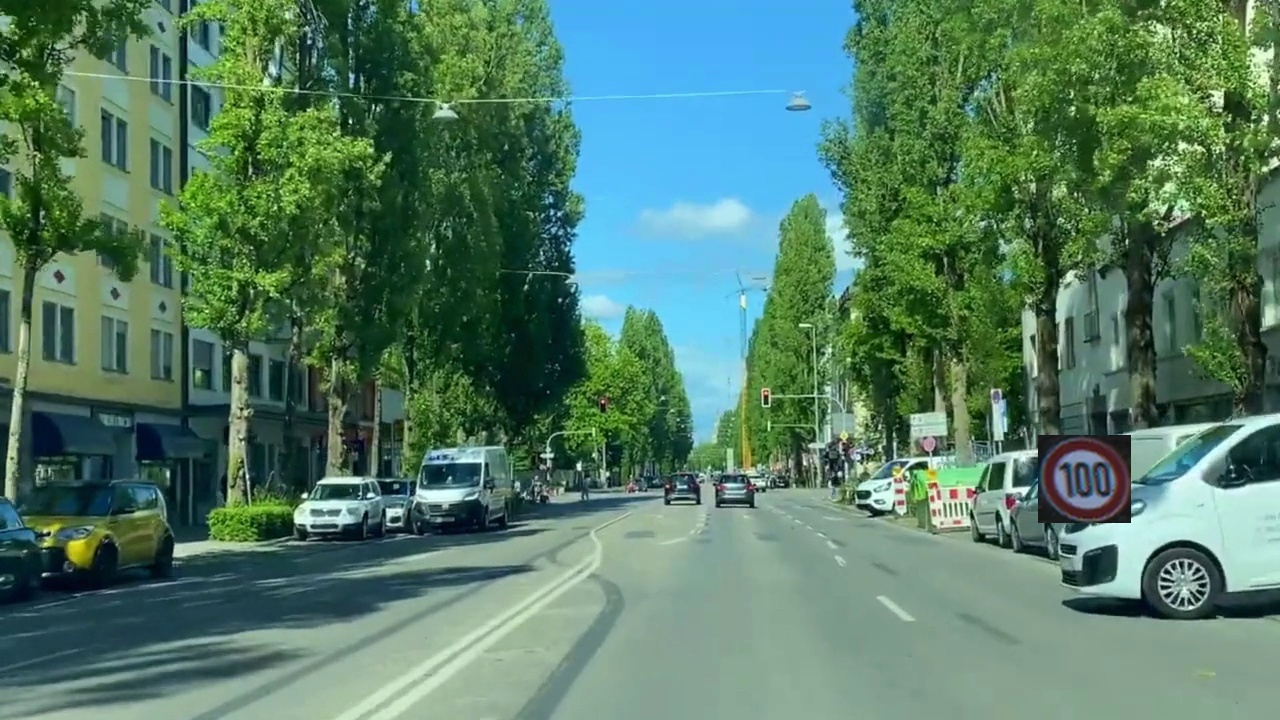Speed 100: (1038, 435, 1131, 523)
